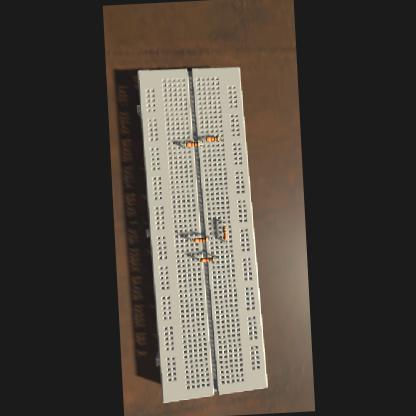breadboard: (134, 64, 267, 403)
resistor: (222, 225, 228, 239), (200, 256, 214, 262), (192, 236, 206, 242), (184, 141, 198, 147), (205, 136, 218, 141)
wire: (213, 256, 216, 259), (202, 139, 205, 142), (199, 144, 202, 147), (219, 138, 221, 141), (222, 221, 224, 224), (207, 237, 210, 239), (182, 144, 184, 147), (196, 258, 198, 260), (190, 239, 192, 241), (224, 239, 225, 241)
